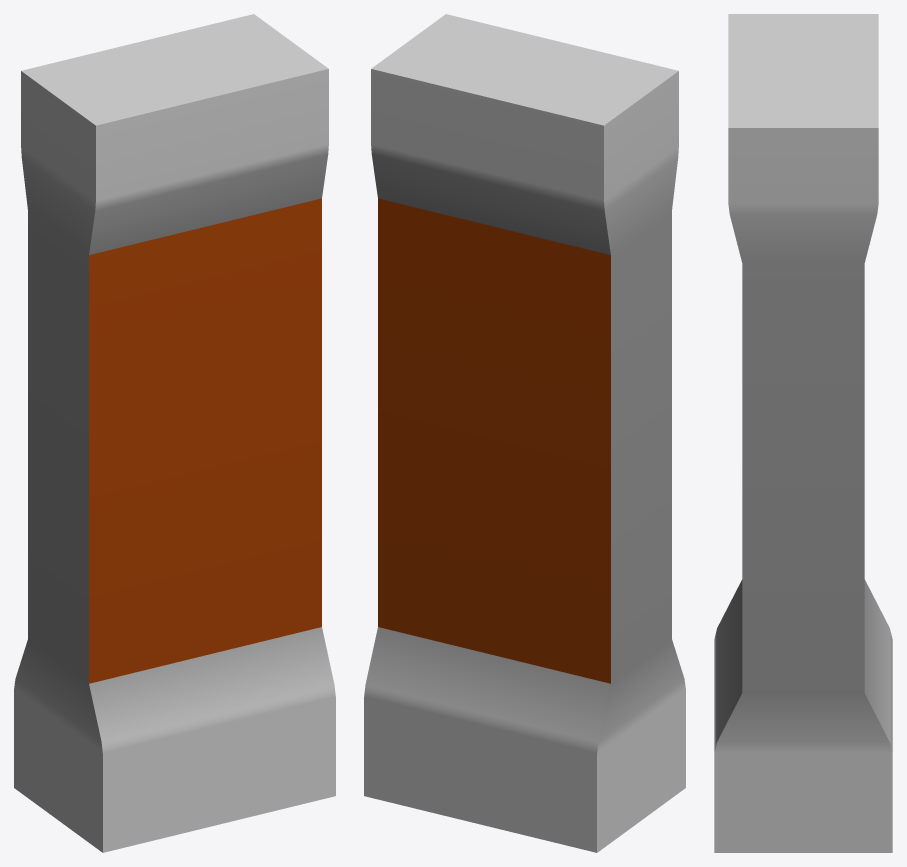
File: env_ruin_pillar_06.fbx
3 renders of one model, left to right at view 1: azimuth 30°, elevation 25°; view 2: azimuth 150°, elevation 25°; view 3: azimuth 270°, elevation 25°, orthographic.
Parts seen in each view (by area): view 1: env_ruin_pillar_06_lod0.003; view 2: env_ruin_pillar_06_lod0.003; view 3: env_ruin_pillar_06_lod0.003.
Part boxes in pixels (left/top/right/bottom): env_ruin_pillar_06_lod0.003: left=14, top=14, right=335, bottom=852; env_ruin_pillar_06_lod0.003: left=364, top=14, right=685, bottom=852; env_ruin_pillar_06_lod0.003: left=714, top=14, right=892, bottom=852.
Size of the model in its own units: 9.62 by 28.5 by 6.35.
